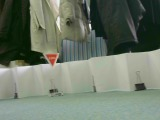stop: (42, 52, 61, 69)
